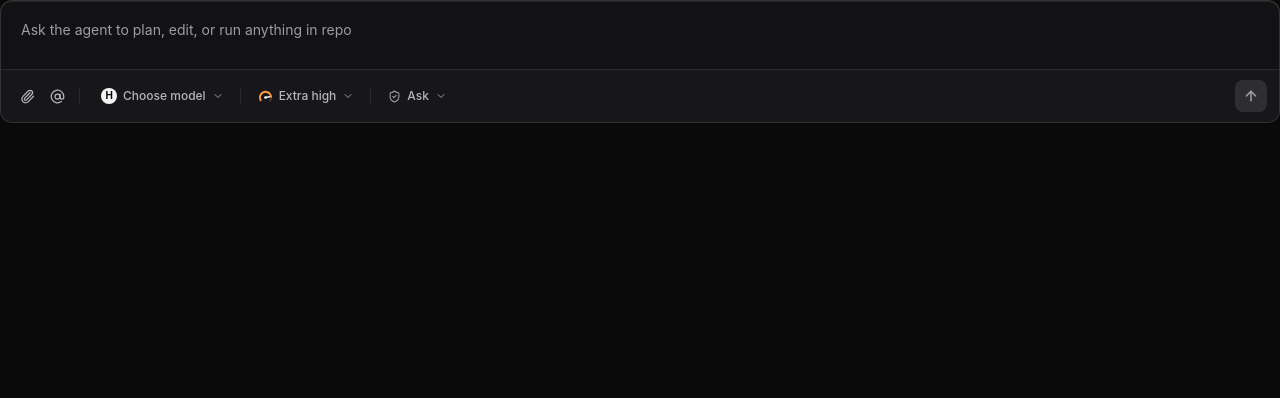
it: EffortPicker › sits beside the model chip and opens a menu of levels in one click
This screenshot has width=1280, height=398.
Expected: the button "H Choose model" does not show "Extra high", x1=90 y1=82 x2=234 y2=110
Click the button with aria-label "Reasoning effort" at (305, 96), box x1=247 y1=82 x2=364 y2=110
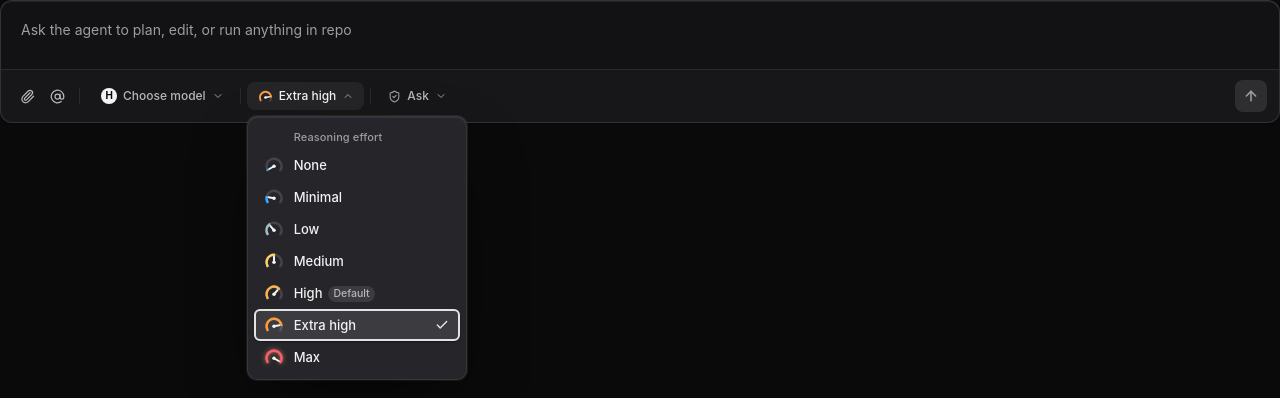
Now the list "Reasoning effort" is shown, box x1=247 y1=116 x2=467 y2=380
Now the button with aria-label "Reasoning effort" is expanded, box x1=247 y1=82 x2=364 y2=110
